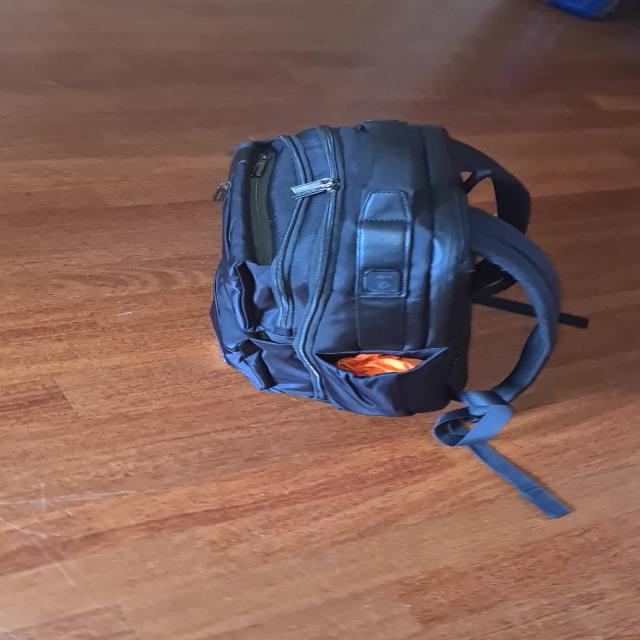backpack: (195, 106, 570, 423)
